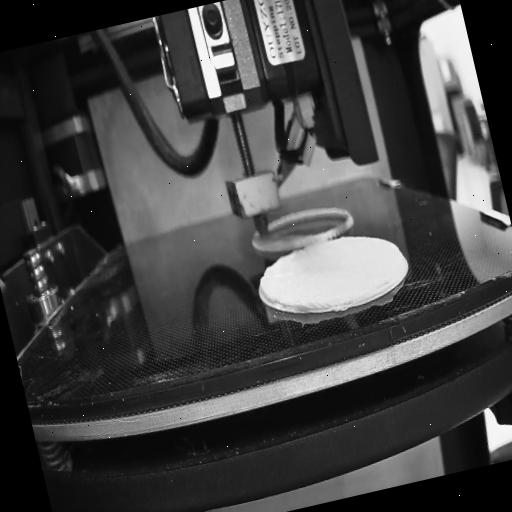over_extrusion: (254, 264, 282, 312)
